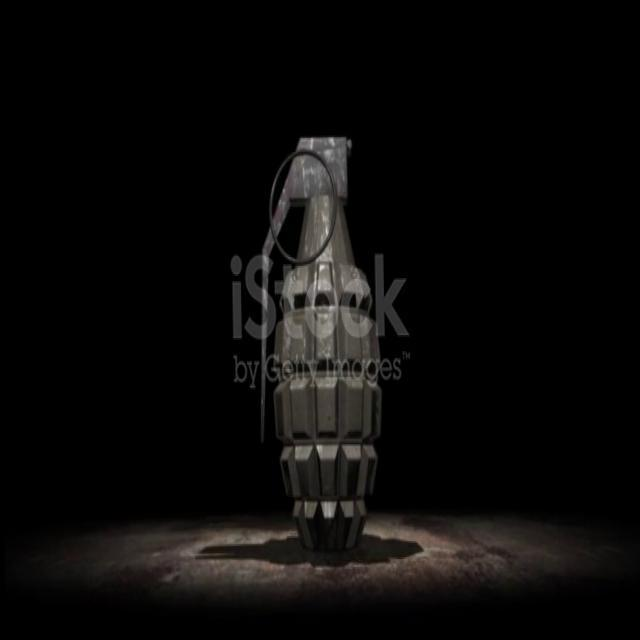grenade: (253, 116, 391, 570)
